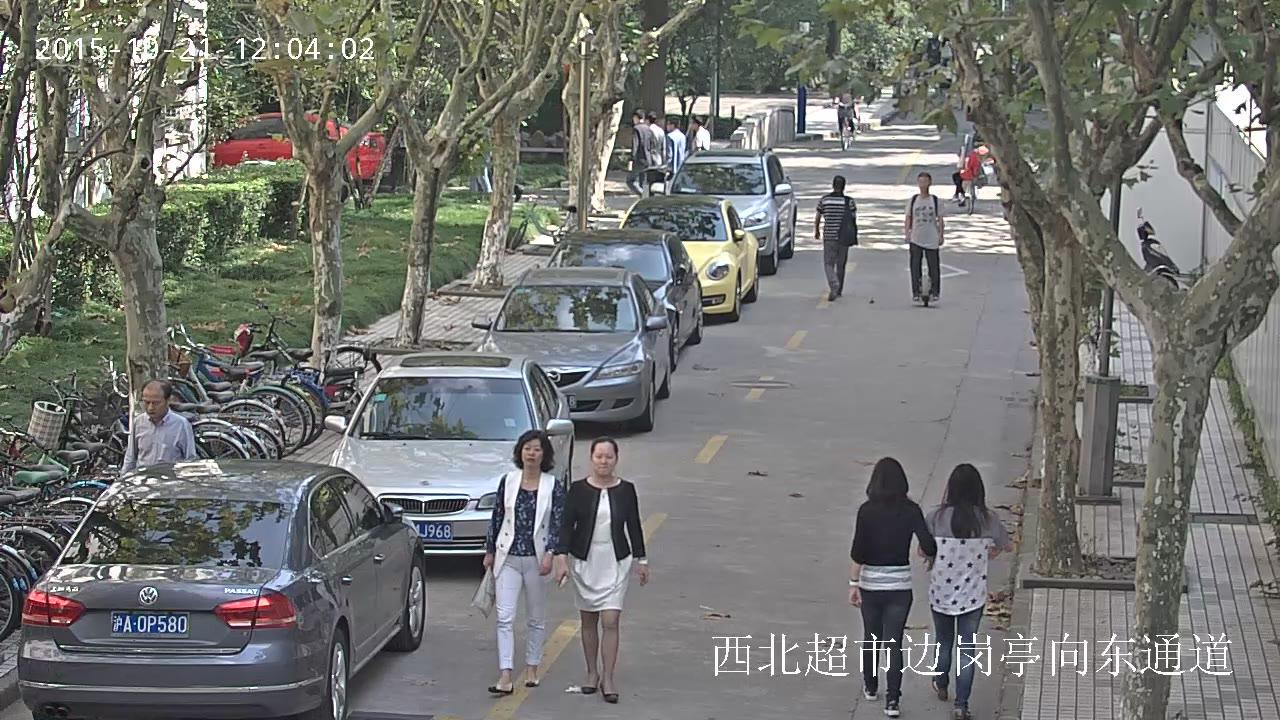person: (554, 435, 649, 702), (471, 430, 566, 694), (917, 463, 1007, 718), (847, 456, 935, 716), (120, 380, 196, 473), (814, 175, 858, 301), (904, 171, 943, 306), (904, 171, 943, 300), (951, 134, 988, 215), (624, 109, 652, 197), (951, 137, 981, 206), (663, 117, 687, 180), (643, 111, 665, 167), (836, 93, 857, 150), (837, 94, 856, 135), (956, 132, 974, 171), (690, 119, 710, 151), (685, 113, 700, 146)
